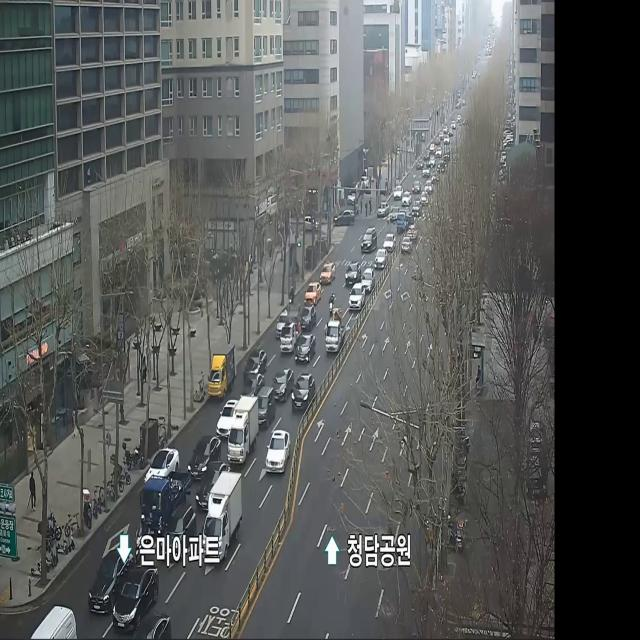bus: (265, 427, 291, 476), (326, 287, 338, 319)
truck: (138, 458, 193, 538), (201, 470, 243, 574), (227, 394, 259, 468), (206, 340, 240, 402), (324, 318, 350, 358)
